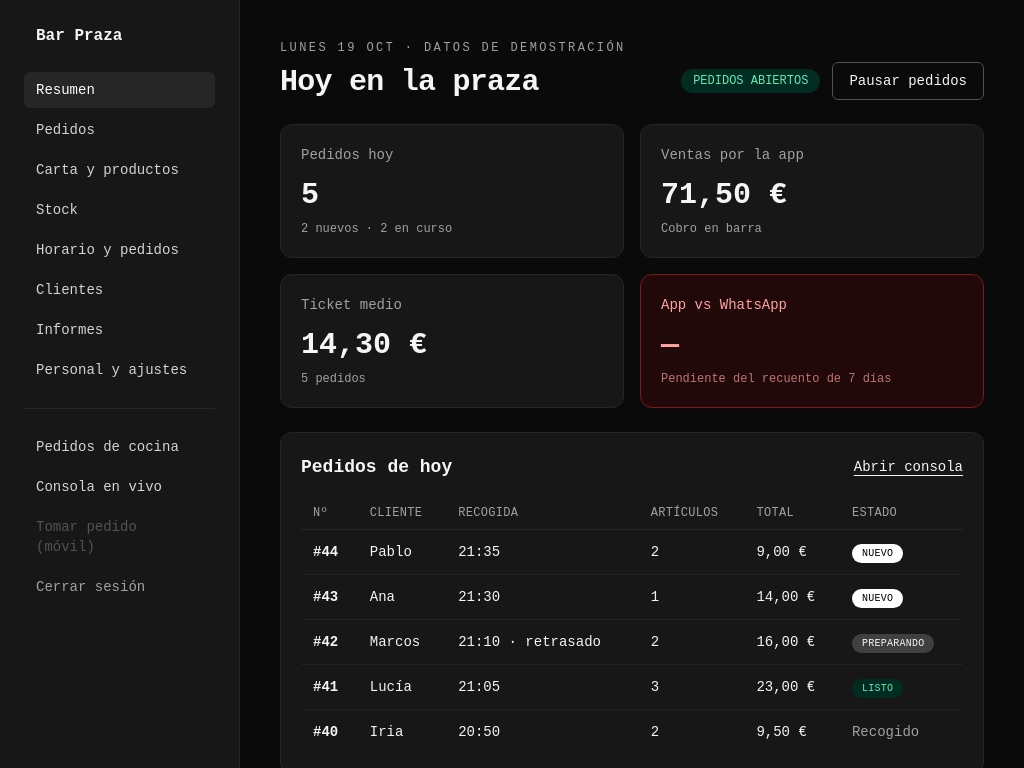
Test case: session guard › goes back to the login form after signing out
Click the button "Cerrar sesión" at (120, 587), box top-left (24, 569), bottom-right (215, 605)
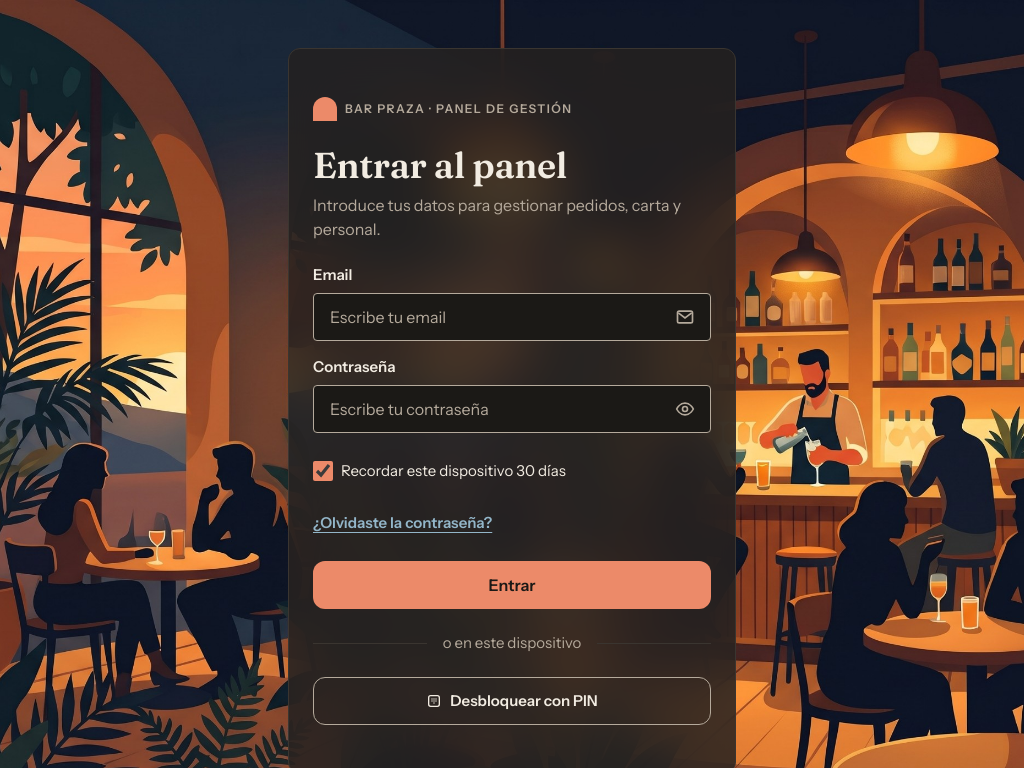
expect the form named "entrar al panel" is shown: met, box top-left (313, 265), bottom-right (711, 609)
